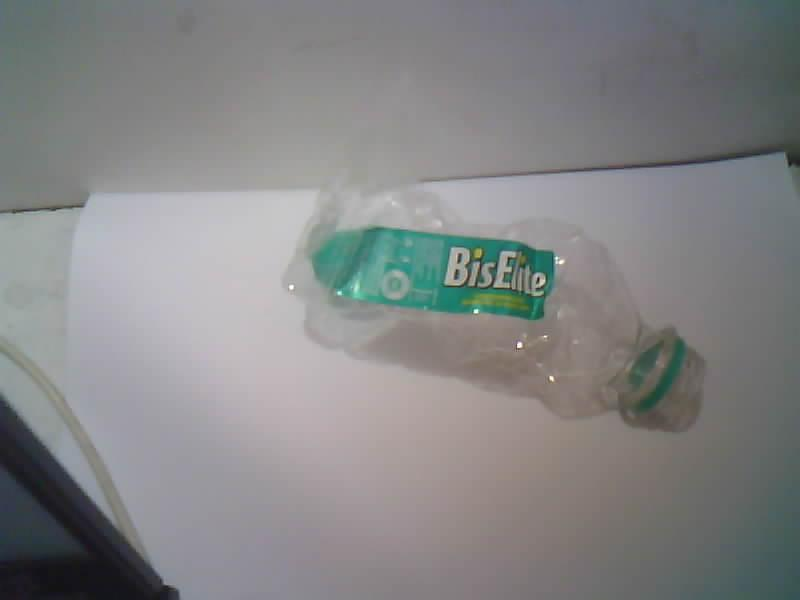non-biodegradable: (283, 177, 703, 431)
